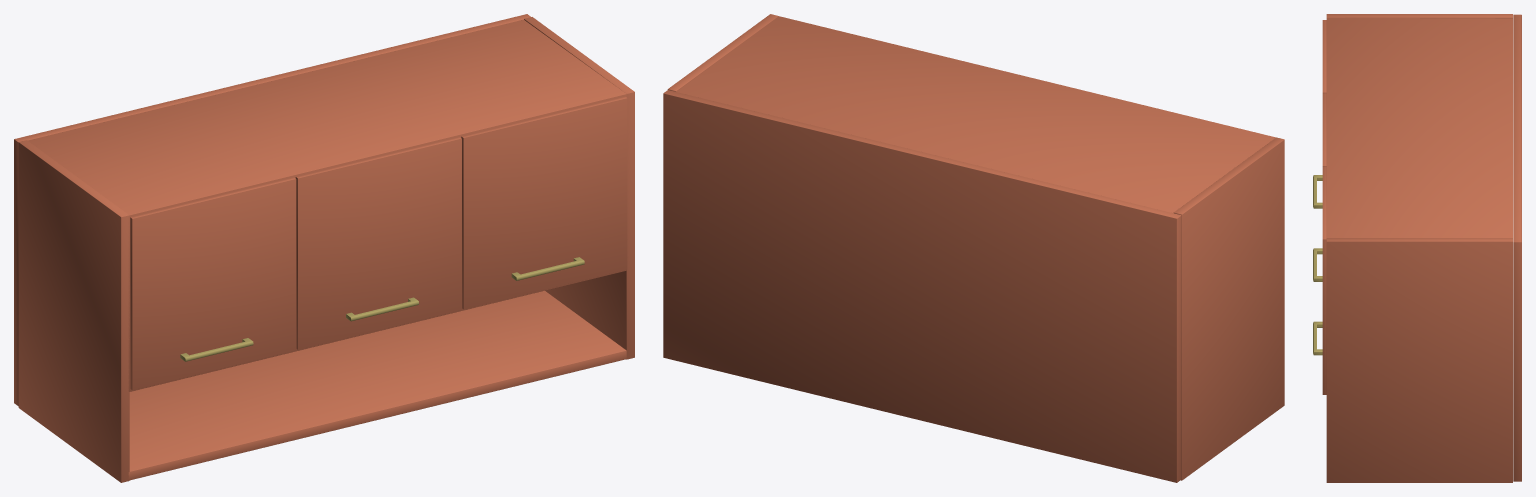
Rendered from ArmarioDeCozinha.fbx.
The picture shows the model from 3 angles, left to right: view 1: azimuth 30°, elevation 25°; view 2: azimuth 150°, elevation 25°; view 3: azimuth 270°, elevation 25°; orthographic projection. The views are drawn at different scales.
Visible parts, largest first — view 1: Armario.Cozinha, Armario.Cozinha.PortaS; view 2: Armario.Cozinha; view 3: Armario.Cozinha, Armario.Cozinha.PortaS.
Boxes of the visible parts, <box> form: Armario.Cozinha: <box>14,14,634,482</box>; Armario.Cozinha.PortaS: <box>130,96,627,390</box>; Armario.Cozinha: <box>663,14,1284,482</box>; Armario.Cozinha: <box>1326,14,1521,482</box>; Armario.Cozinha.PortaS: <box>1313,20,1326,394</box>.
Bounding box in the file's own units: 249 × 123 × 96.61.
